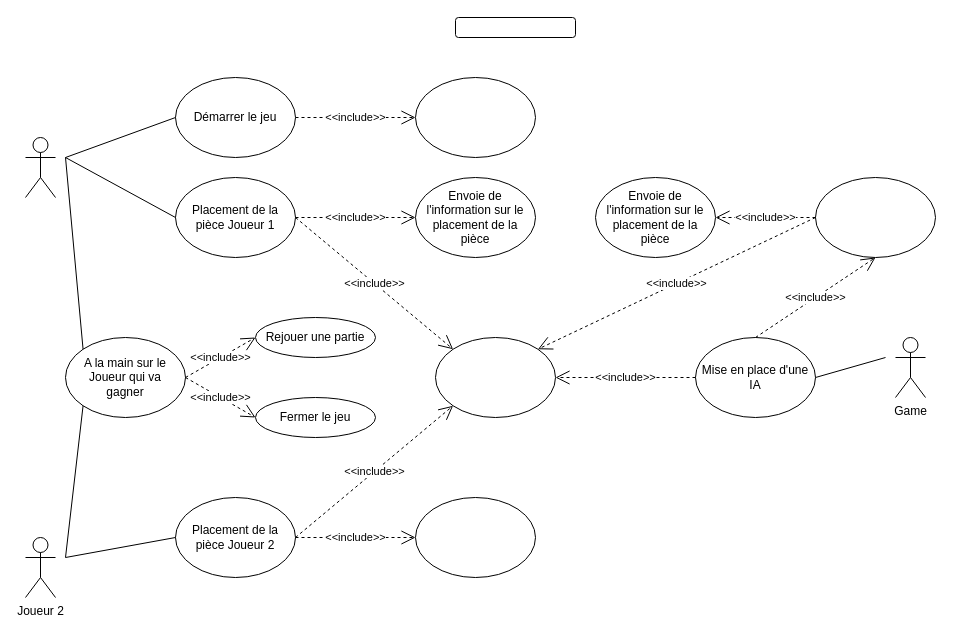
This 953x636 diagram has some shape labels left out. The centre of each missing label's shape, as x and y in pixels:
"Choisir contre qui jouer (Joueur 2 ou IA)" goes at [475,117].
"Envoie de l'information sur le placement" goes at [475,537].
"Joueur 1" goes at [40,167].
"Placement de la pièce" goes at [875,217].
"Puissance 4" goes at [515,27].
"Réception de l'information sur le placement du Joueur adverse" goes at [495,377].
